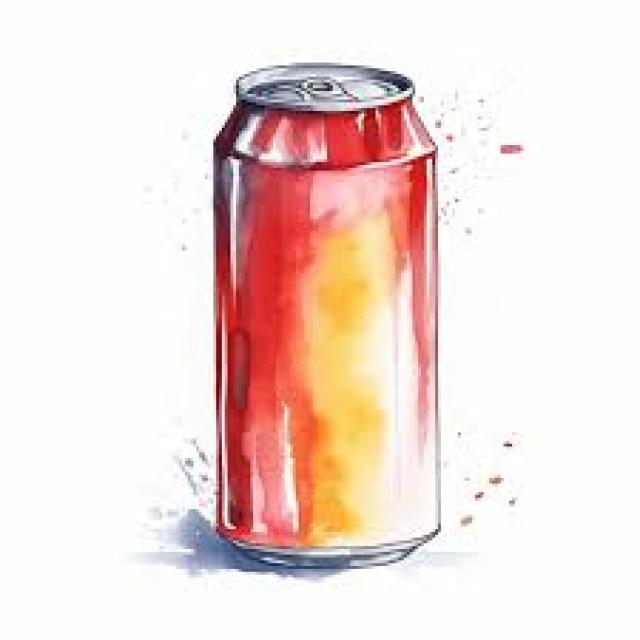Cans: (196, 48, 455, 580)
